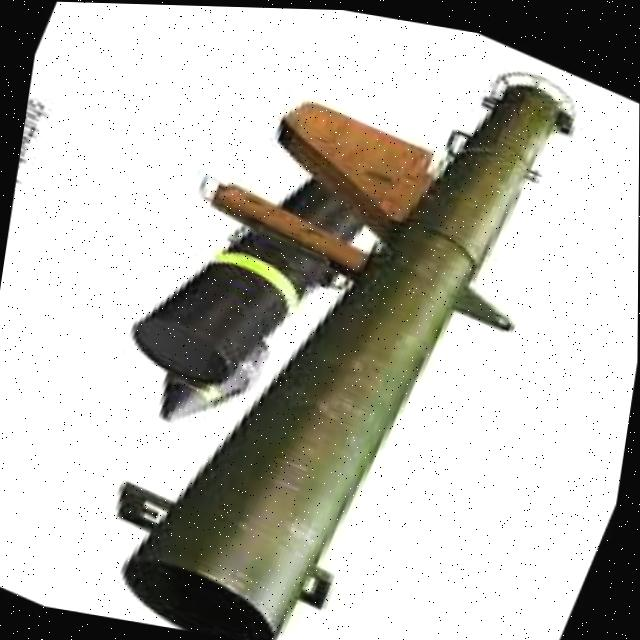rocket: (40, 1, 606, 640)
